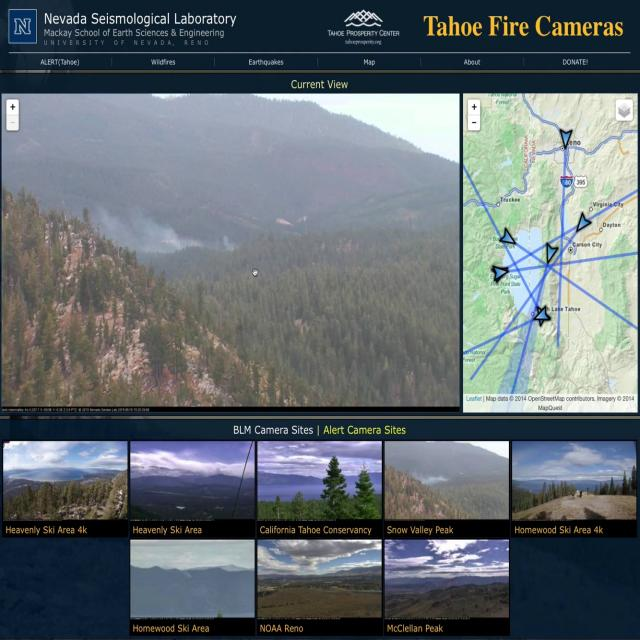smoke: (89, 204, 245, 259)
